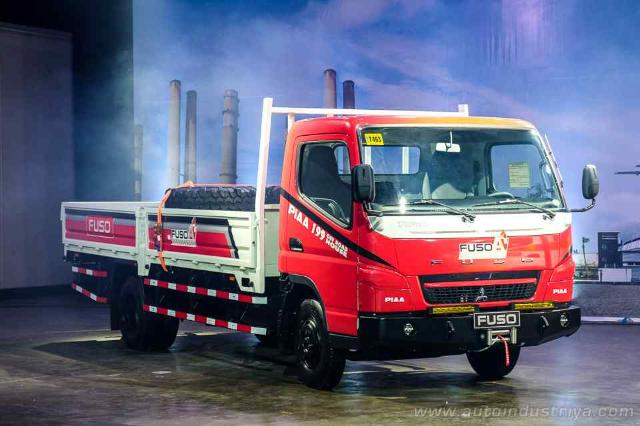truck: (59, 105, 601, 387)
